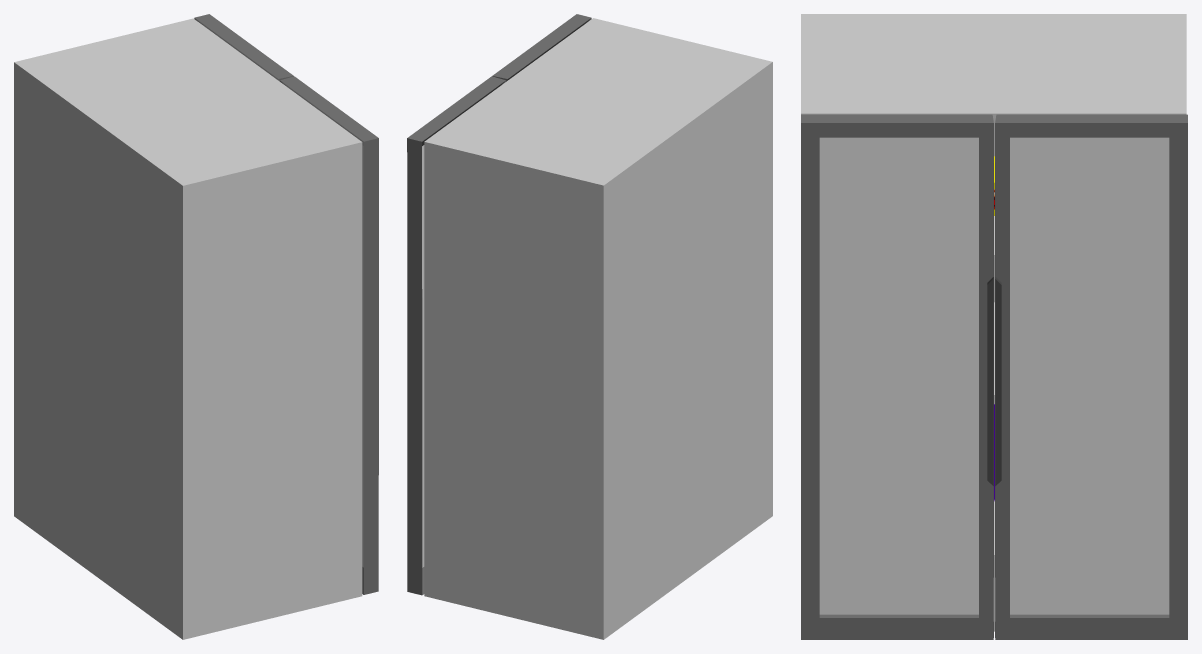
File: heladerasRellenas-v2_01.fbx
3 renders of one model, left to right at view 1: azimuth 30°, elevation 25°; view 2: azimuth 150°, elevation 25°; view 3: azimuth 270°, elevation 25°, orthographic. The views are drawn at different scales.
Parts seen in each view (by area): view 1: Heladera rellena 1, Puerta heladera 1, Puerta heladera 2; view 2: Heladera rellena 1, Puerta heladera 2, Puerta heladera 1; view 3: Puerta heladera 1, Puerta heladera 2, Heladera rellena 1.
Boxes of the visible parts, box(x1,y1,x2,y2) form: Heladera rellena 1: box(14, 18, 362, 639); Puerta heladera 1: box(280, 76, 378, 594); Puerta heladera 2: box(194, 14, 293, 81); Heladera rellena 1: box(424, 18, 772, 639); Puerta heladera 2: box(407, 76, 505, 595); Puerta heladera 1: box(492, 14, 591, 81); Puerta heladera 1: box(801, 114, 993, 639); Puerta heladera 2: box(995, 114, 1187, 639); Heladera rellena 1: box(801, 14, 1186, 631).
Size of the model in its own units: 68.99 by 150 by 101.
25 materials, 21 textured.
